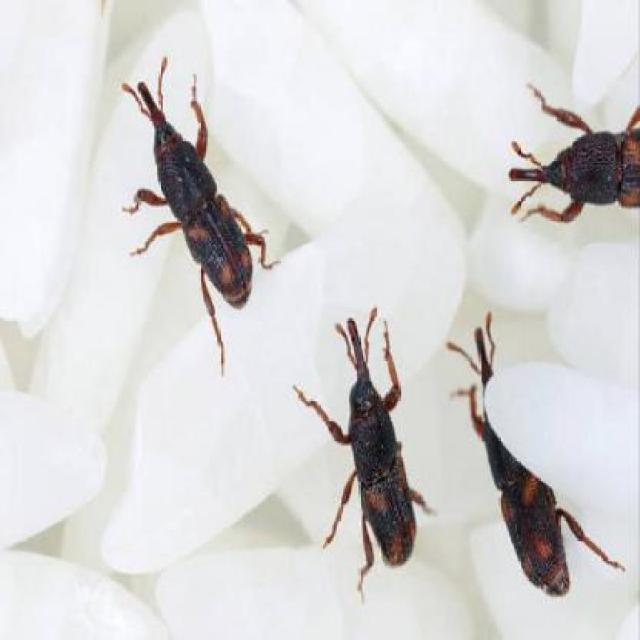rice-bug: (462, 311, 586, 597), (130, 62, 262, 330), (314, 313, 417, 590), (507, 86, 640, 233)
